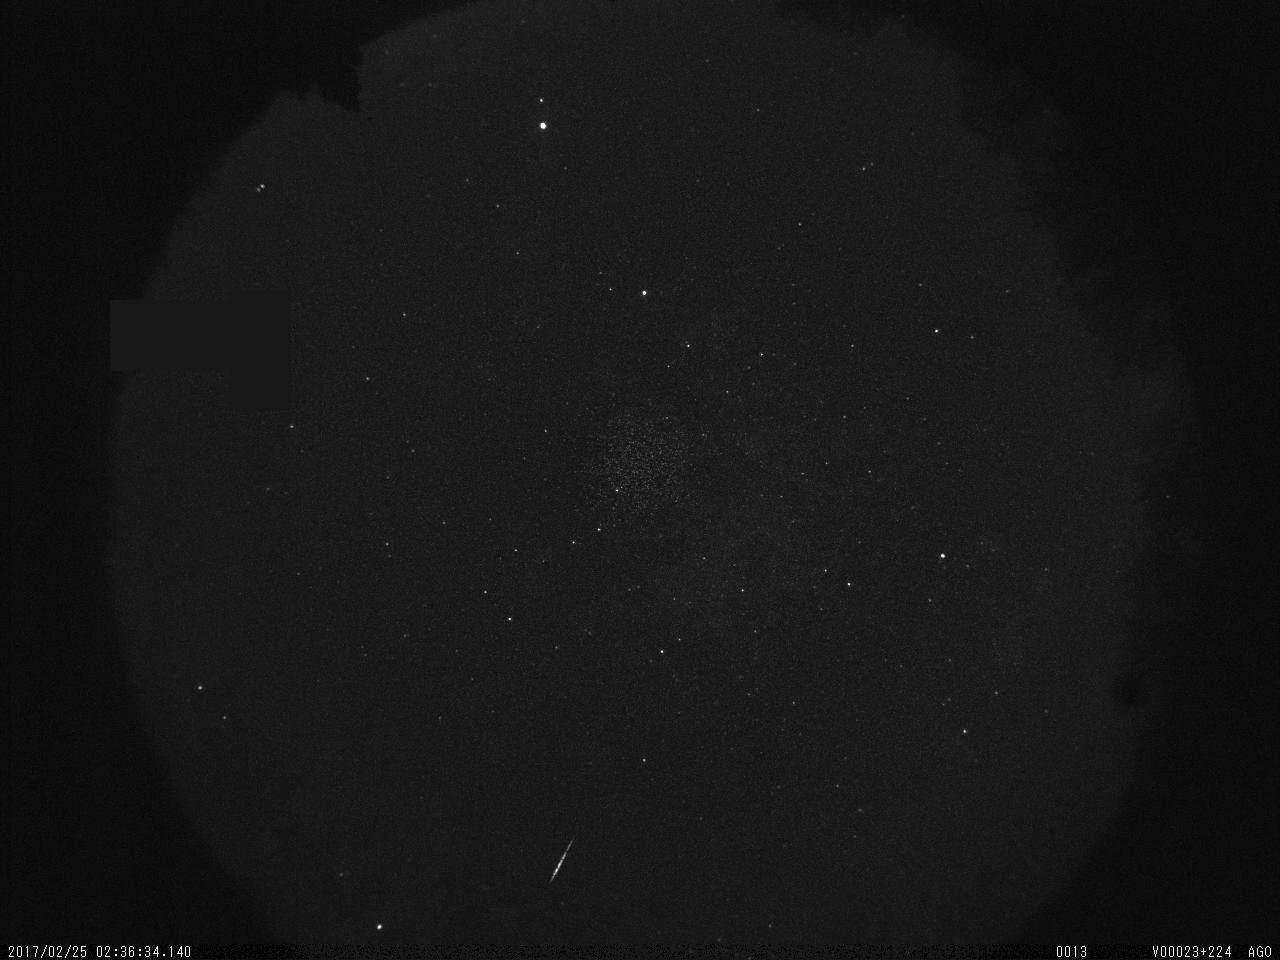Meteor: (546, 835, 575, 884)
